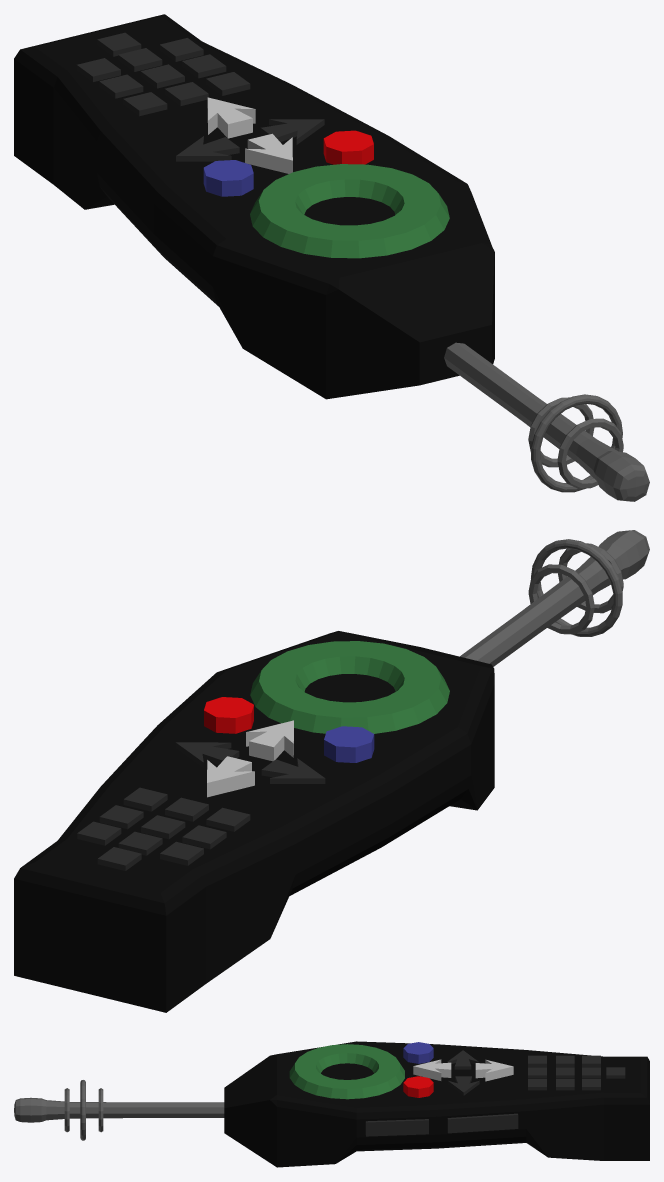
File: F001-Remote.fbx
3 views of the same model, one above another, from view 1: azimuth 30°, elevation 25°; view 2: azimuth 150°, elevation 25°; view 3: azimuth 270°, elevation 25° (orthographic). The views are drawn at different scales.
Parts seen in each view (by area): view 1: RemoteBody, Scroll, Home, PowerON, VolumeDown, VolumeUp; view 2: RemoteBody, Scroll, Home, PowerON, VolumeDown, VolumeUp; view 3: RemoteBody, Scroll, VolumeUp, VolumeDown, Home, PowerON.
Part boxes in pixels (x1,y1,x2,y2): RemoteBody: (14,14,649,501); Scroll: (250,164,449,258); Home: (203,160,253,196); PowerON: (323,130,373,164); VolumeDown: (207,97,255,138); VolumeUp: (245,133,292,173); RemoteBody: (14,530,649,1012); Scroll: (250,641,449,733); Home: (324,726,374,762); PowerON: (204,697,253,733); VolumeDown: (207,756,254,797); VolumeUp: (246,720,293,761); RemoteBody: (14,1041,649,1167); Scroll: (289,1044,404,1099); VolumeUp: (413,1059,451,1080); VolumeDown: (475,1059,513,1081); Home: (403,1042,433,1063); PowerON: (403,1076,433,1097).
Bounding box in the file's own units: 41.45 × 20.24 × 150.
